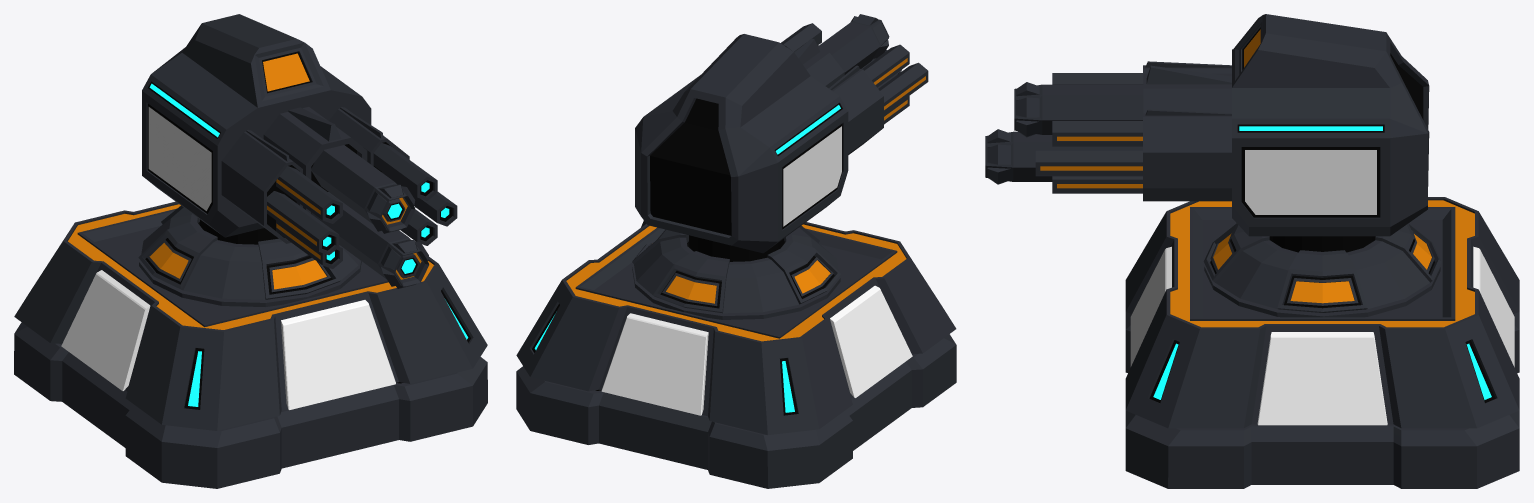
File: SM_Turret_BarrageArray.fbx
The picture shows the model from 3 angles, left to right: view 1: azimuth 30°, elevation 25°; view 2: azimuth 150°, elevation 25°; view 3: azimuth 270°, elevation 25°; orthographic projection. The views are drawn at different scales.
Parts seen in each view (by area): view 1: SM_Turret_BarrageArray, SM_Turret_BarrageArray_Weapon_Gun, SM_Turret_BarrageArray_Rotator, SM_Turret_BarrageArray_Weapon_Gun_C1, SM_Turret_BarrageArray_Weapon_Gun_C2, SM_Turret_BarrageArray_Weapon_Gun_R2, SM_Turret_BarrageArray_Weapon_Gun_R1, SM_Turret_BarrageArray_Weapon_Gun_L1, SM_Turret_BarrageArray_Weapon_Gun_L2, SM_Turret_BarrageArray_Weapon_Gun_R3, SM_Turret_BarrageArray_Weapon_Gun_L3; view 2: SM_Turret_BarrageArray, SM_Turret_BarrageArray_Weapon_Gun, SM_Turret_BarrageArray_Rotator, SM_Turret_BarrageArray_Weapon_Gun_C1, SM_Turret_BarrageArray_Weapon_Gun_R2, SM_Turret_BarrageArray_Weapon_Gun_R1, SM_Turret_BarrageArray_Weapon_Gun_L1; view 3: SM_Turret_BarrageArray, SM_Turret_BarrageArray_Weapon_Gun, SM_Turret_BarrageArray_Rotator, SM_Turret_BarrageArray_Weapon_Gun_C1, SM_Turret_BarrageArray_Weapon_Gun_C2, SM_Turret_BarrageArray_Weapon_Gun_L2, SM_Turret_BarrageArray_Weapon_Gun_L1, SM_Turret_BarrageArray_Weapon_Gun_L3, SM_Turret_BarrageArray_Weapon_Gun_R1.
Part boxes in pixels (bbox=[...]): SM_Turret_BarrageArray: bbox=[14, 201, 487, 488]; SM_Turret_BarrageArray_Weapon_Gun: bbox=[142, 14, 409, 243]; SM_Turret_BarrageArray_Rotator: bbox=[138, 205, 361, 306]; SM_Turret_BarrageArray_Weapon_Gun_C1: bbox=[311, 145, 415, 233]; SM_Turret_BarrageArray_Weapon_Gun_C2: bbox=[311, 192, 429, 288]; SM_Turret_BarrageArray_Weapon_Gun_R2: bbox=[267, 191, 339, 255]; SM_Turret_BarrageArray_Weapon_Gun_R1: bbox=[276, 166, 342, 223]; SM_Turret_BarrageArray_Weapon_Gun_L1: bbox=[373, 143, 437, 200]; SM_Turret_BarrageArray_Weapon_Gun_L2: bbox=[382, 172, 457, 226]; SM_Turret_BarrageArray_Weapon_Gun_R3: bbox=[276, 220, 342, 268]; SM_Turret_BarrageArray_Weapon_Gun_L3: bbox=[400, 210, 437, 245]; SM_Turret_BarrageArray: bbox=[516, 220, 956, 488]; SM_Turret_BarrageArray_Weapon_Gun: bbox=[635, 34, 883, 253]; SM_Turret_BarrageArray_Rotator: bbox=[632, 225, 840, 319]; SM_Turret_BarrageArray_Weapon_Gun_C1: bbox=[818, 14, 889, 74]; SM_Turret_BarrageArray_Weapon_Gun_R2: bbox=[878, 62, 928, 113]; SM_Turret_BarrageArray_Weapon_Gun_R1: bbox=[862, 44, 909, 87]; SM_Turret_BarrageArray_Weapon_Gun_L1: bbox=[781, 23, 821, 51]; SM_Turret_BarrageArray: bbox=[1125, 197, 1519, 488]; SM_Turret_BarrageArray_Weapon_Gun: bbox=[1143, 14, 1429, 236]; SM_Turret_BarrageArray_Rotator: bbox=[1203, 223, 1441, 317]; SM_Turret_BarrageArray_Weapon_Gun_C1: bbox=[1014, 82, 1143, 137]; SM_Turret_BarrageArray_Weapon_Gun_C2: bbox=[985, 129, 1142, 184]; SM_Turret_BarrageArray_Weapon_Gun_L2: bbox=[1035, 150, 1142, 176]; SM_Turret_BarrageArray_Weapon_Gun_L1: bbox=[1052, 121, 1142, 146]; SM_Turret_BarrageArray_Weapon_Gun_L3: bbox=[1052, 176, 1142, 193]; SM_Turret_BarrageArray_Weapon_Gun_R1: bbox=[1052, 73, 1142, 84].
Bounding box in the file's own units: 1 × 1.07 × 1.36.
